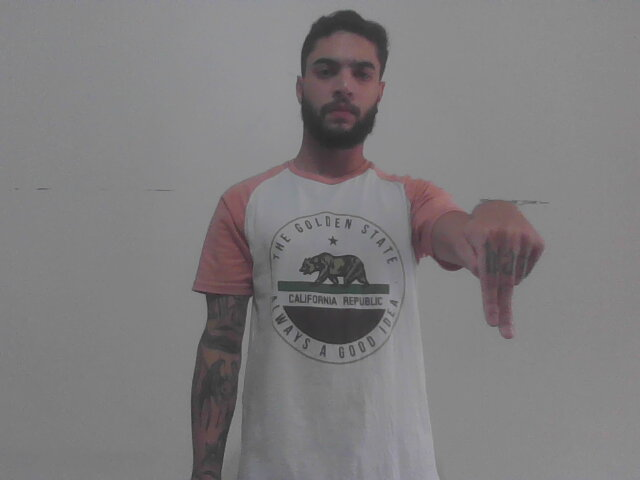n: (452, 195, 548, 343)
